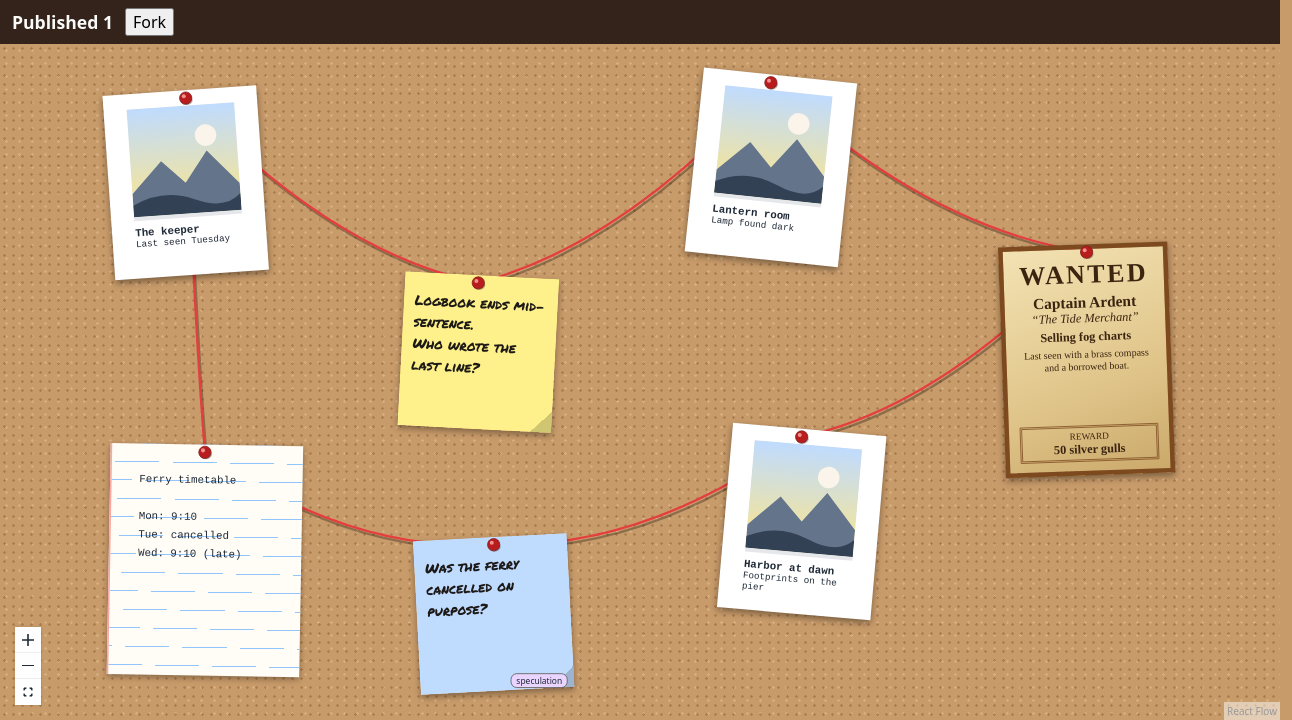
Test: /b/:slug fork controls › shows a generic alert and stays on the page when the server rejects the fork (cap or unavailable)
Click the button "Fork": (150, 22) 125,8 -> 174,36
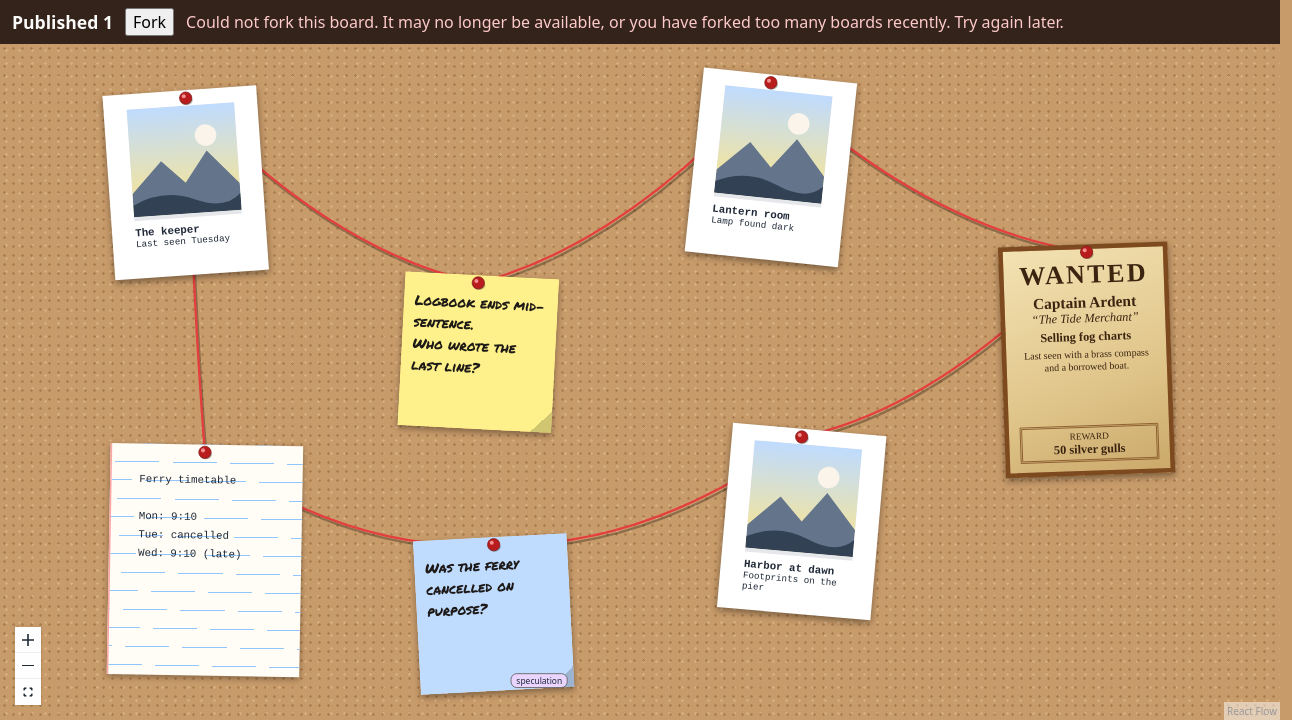
Check: the message shows "Could not fork this board. It may no longer be available, or you have forked too many boards recently. Try again later.", box 186,11 -> 1064,33
